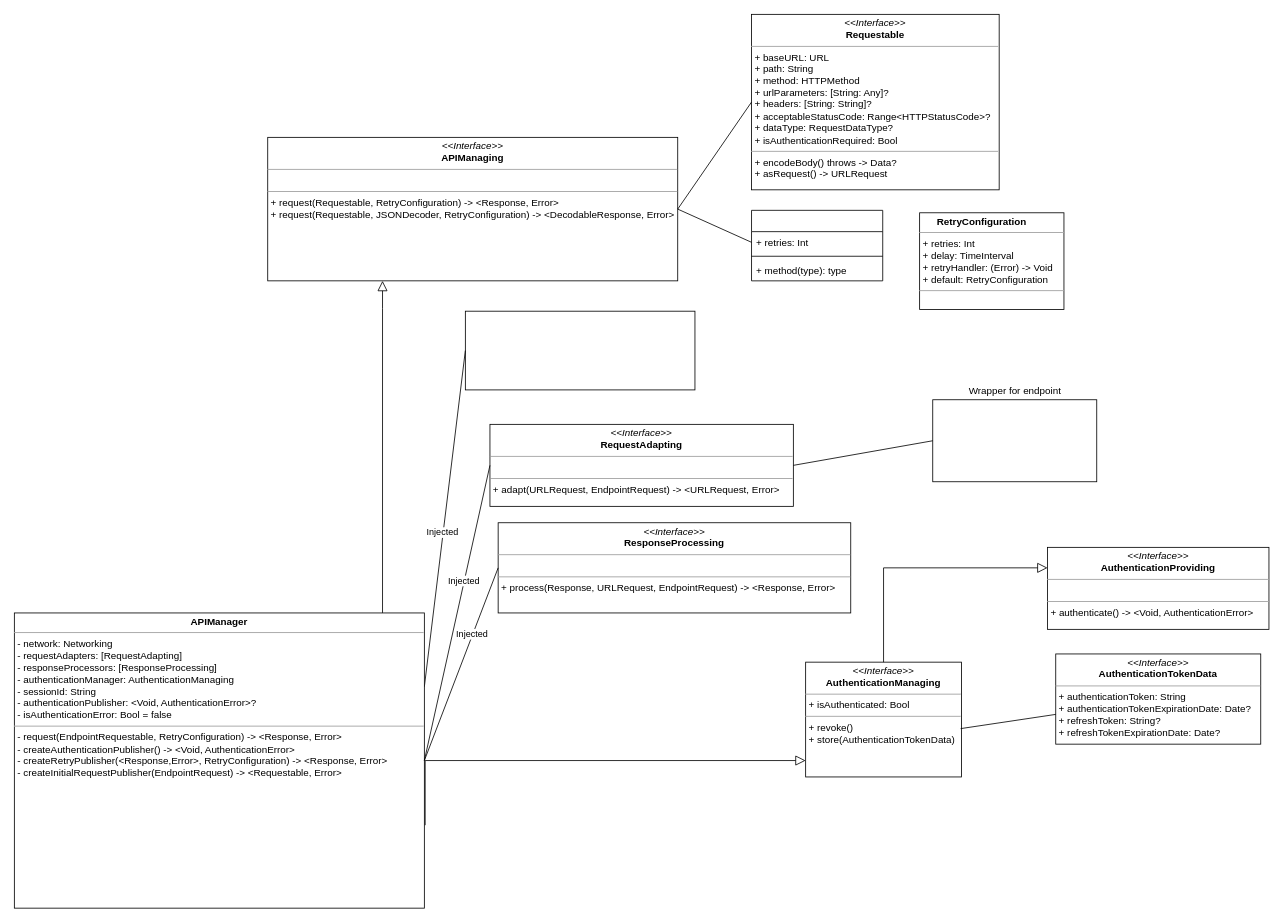
The diagram is 1283 pixels wide and 923 high, and some of its shapes have lost their labels. The shapes that lost their labels are listed below. From the top down, each one's box as (x1, y1, x2, y2) in pixels, then its label:
(751, 210, 883, 281): RetryConfiguration
(465, 310, 695, 390): <<Interface>> Networking + requestPublisher() -> <Response, NetworkError>
(932, 399, 1097, 482): EndpointRequest + identifier: String + sessionId: String + endpoint: Requestable
